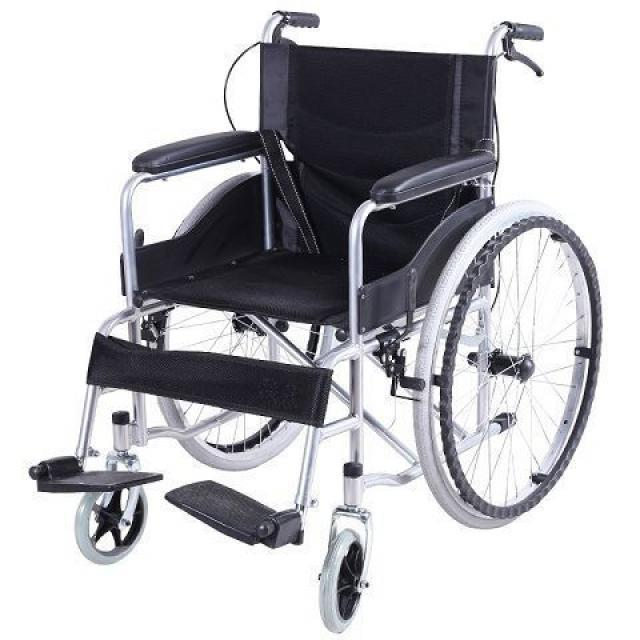wheelchair: (25, 1, 608, 627)
